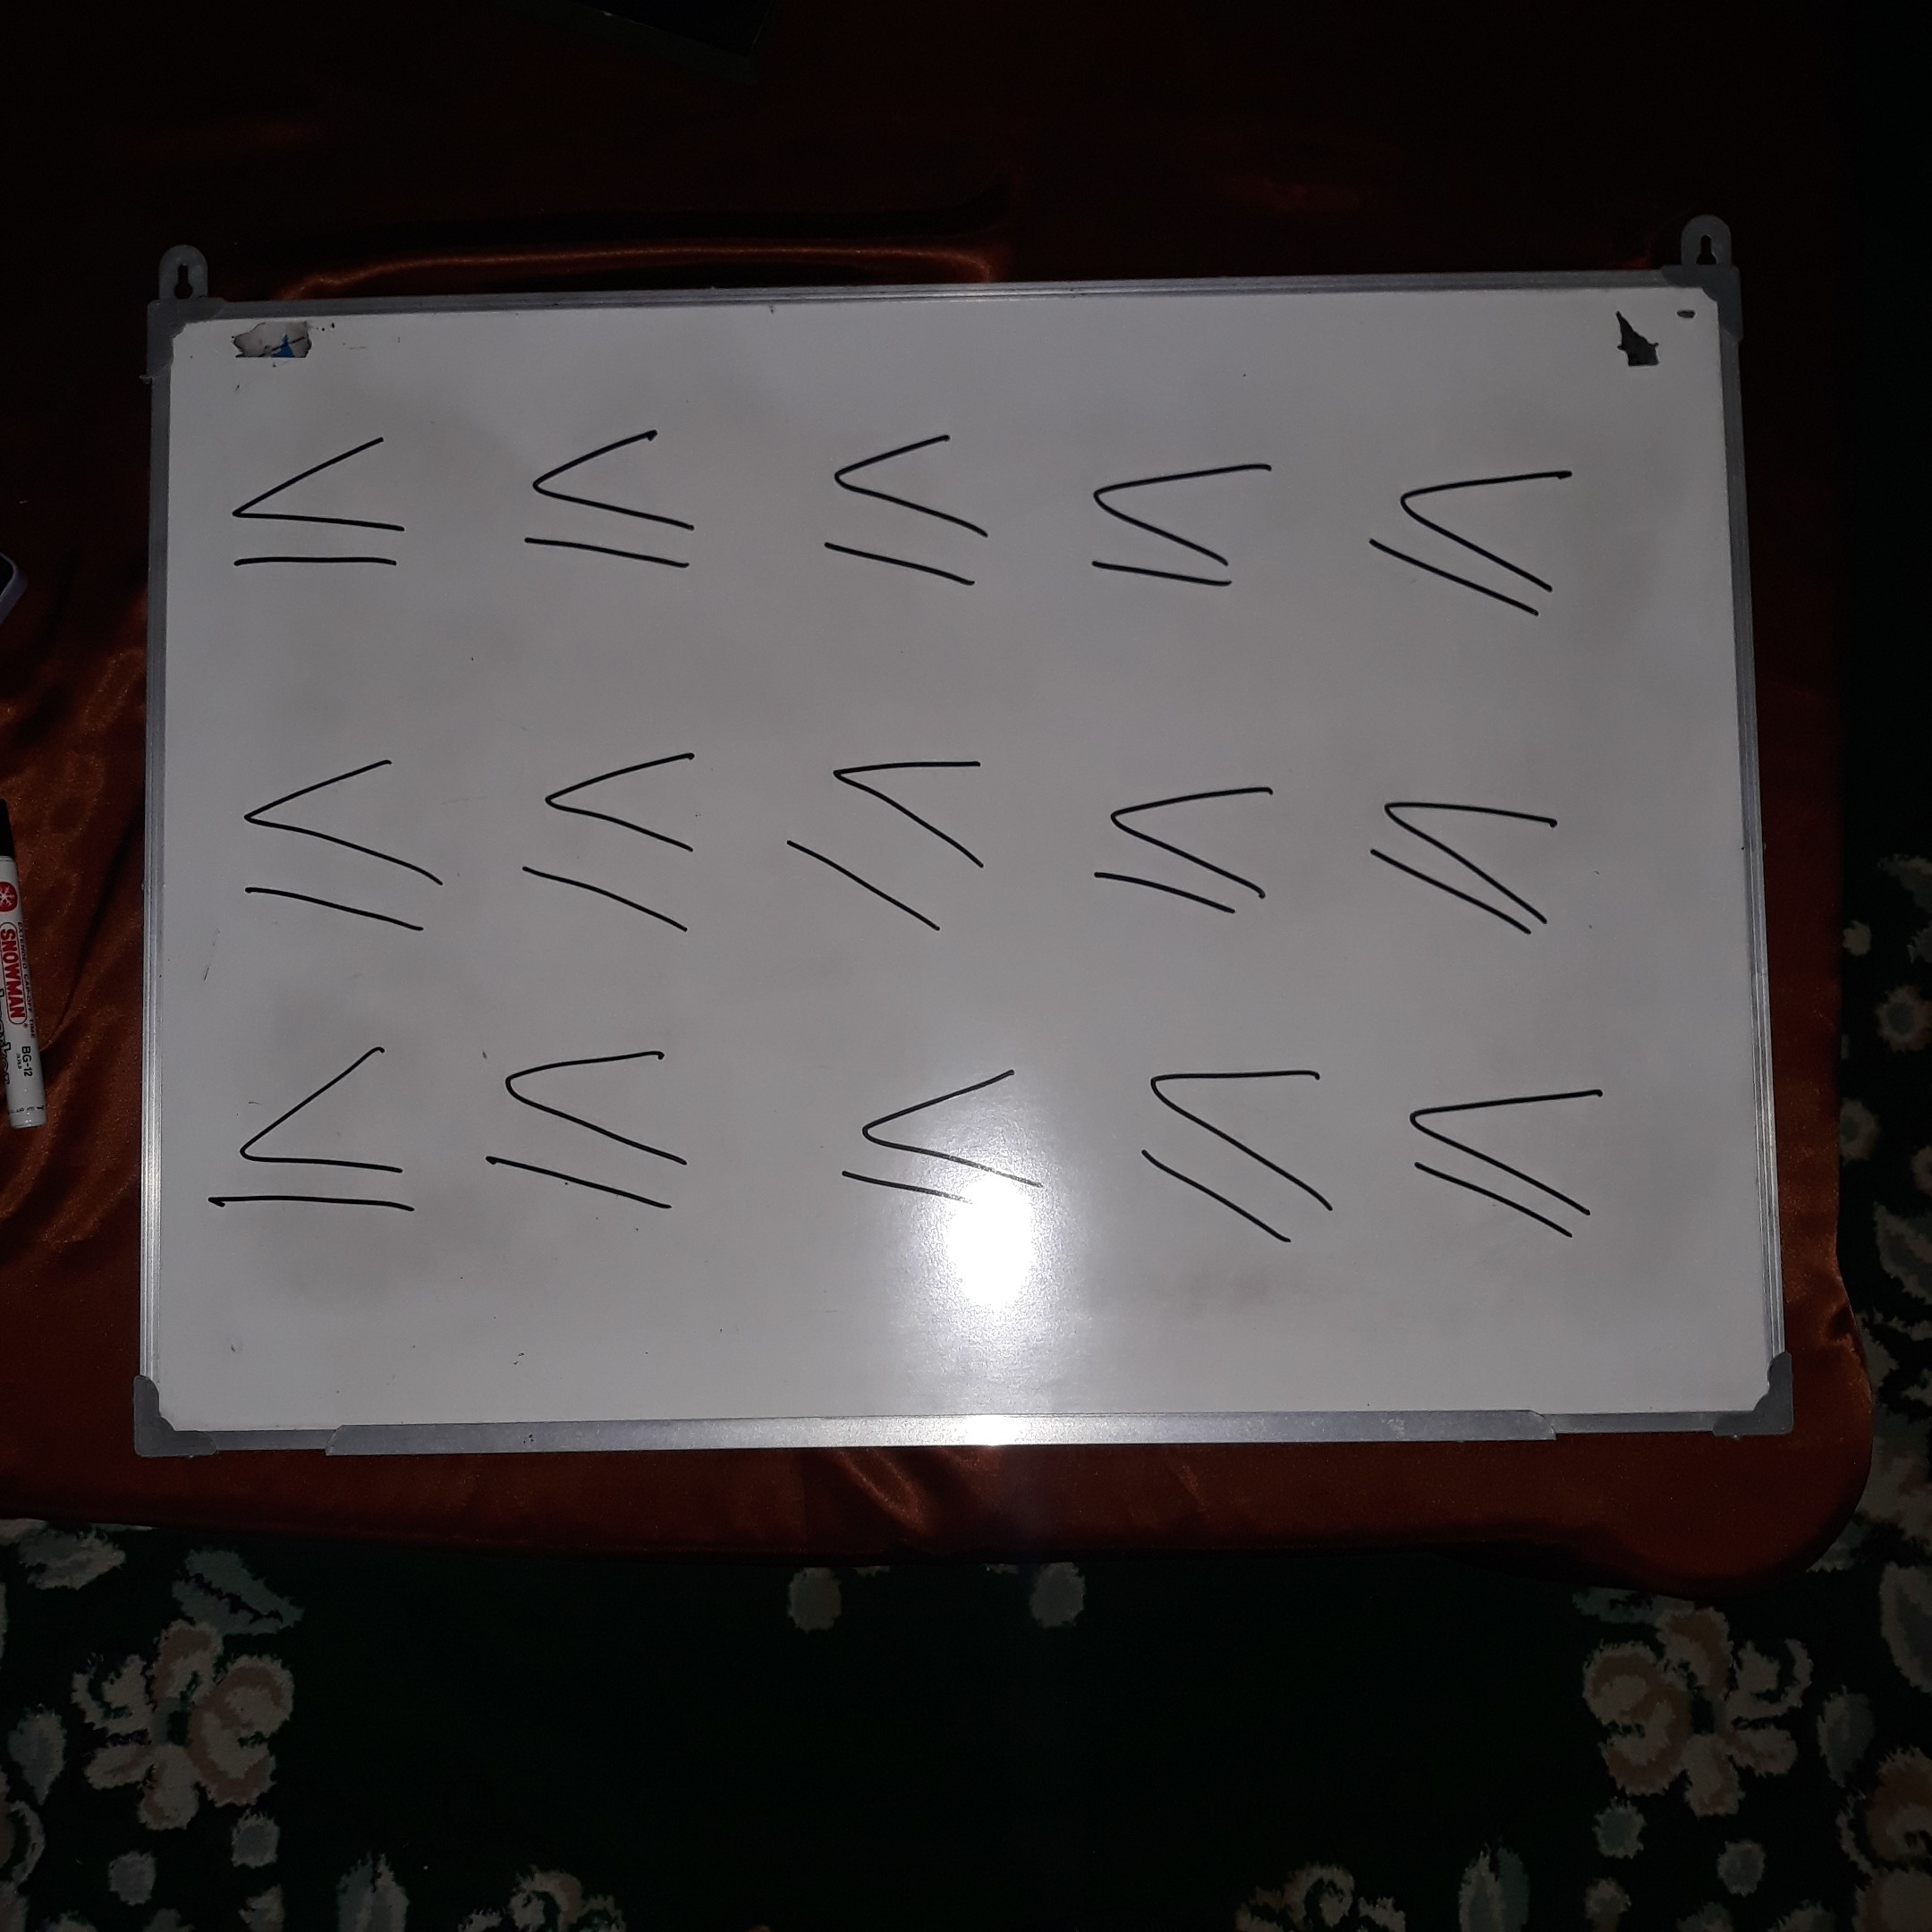lessthan-equal: (826, 1034, 1072, 1243), (1067, 741, 1312, 950), (191, 1015, 436, 1224), (1112, 1051, 1357, 1260), (1387, 1053, 1632, 1262), (225, 741, 470, 951), (500, 727, 745, 936), (775, 725, 1020, 935), (1350, 752, 1595, 962), (472, 1022, 717, 1232), (208, 411, 431, 606), (506, 402, 730, 597), (1070, 430, 1293, 626), (1357, 436, 1580, 631), (801, 413, 1025, 609)
